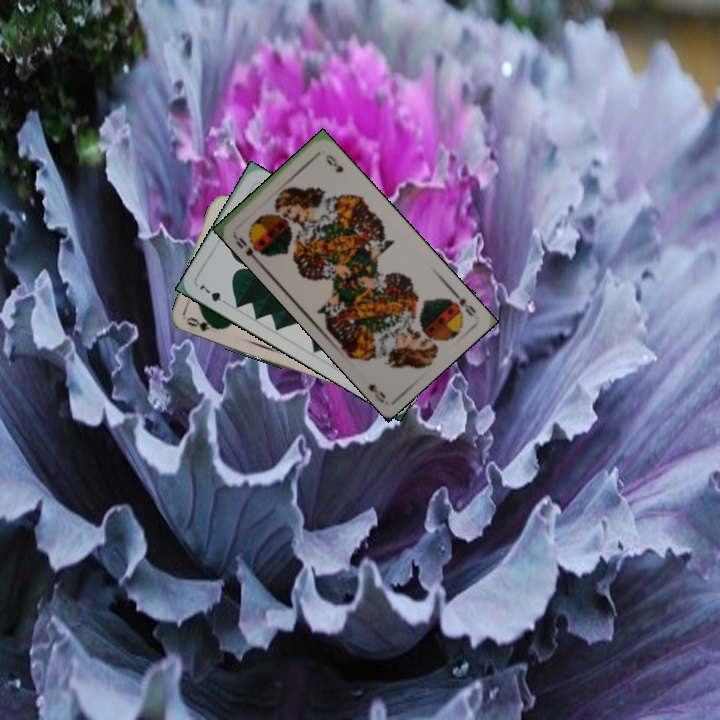G7: (195, 281, 231, 308)
GO: (183, 313, 224, 334)
SO: (229, 229, 266, 264), (447, 286, 479, 319)
